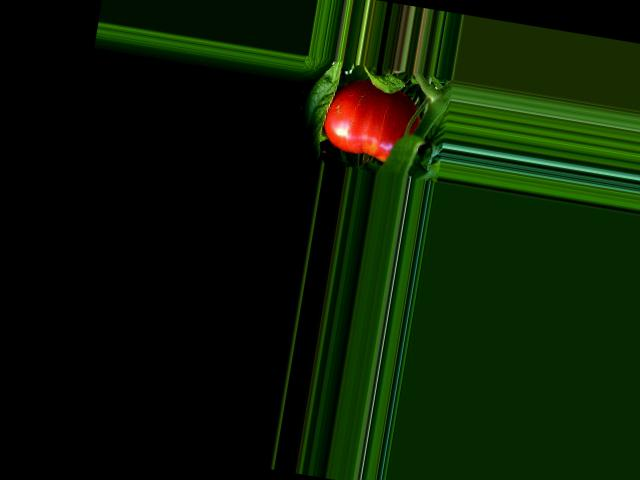tomato: (318, 74, 425, 167)
